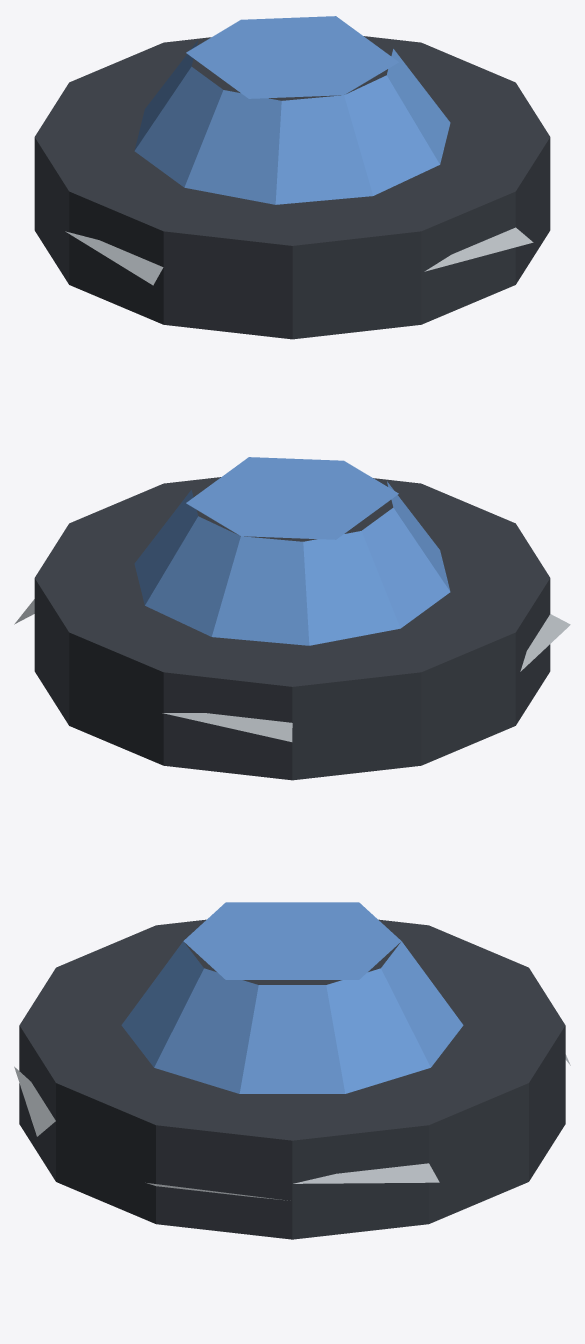
File: mine-stun.lod.glb
3 views of the same model, one above another, from view 1: azimuth 30°, elevation 25°; view 2: azimuth 150°, elevation 25°; view 3: azimuth 270°, elevation 25° (orthographic). The views are drawn at different scales.
Parts seen in each view (by area): view 1: m; view 2: m; view 3: m.
Part boxes in pixels (box(x1,y1,x2,y2)): m: box(34, 16, 550, 339); m: box(14, 457, 570, 780); m: box(14, 902, 570, 1239).
Size of the model in its own units: 0.0944 by 0.0519 by 0.0944.
